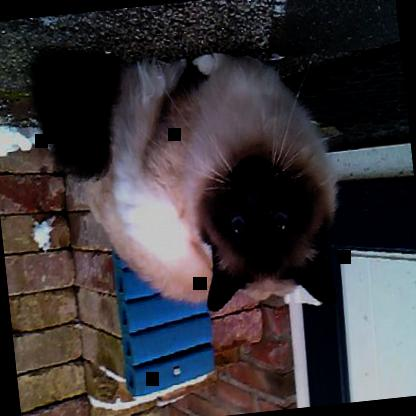cat: (46, 28, 346, 332)
